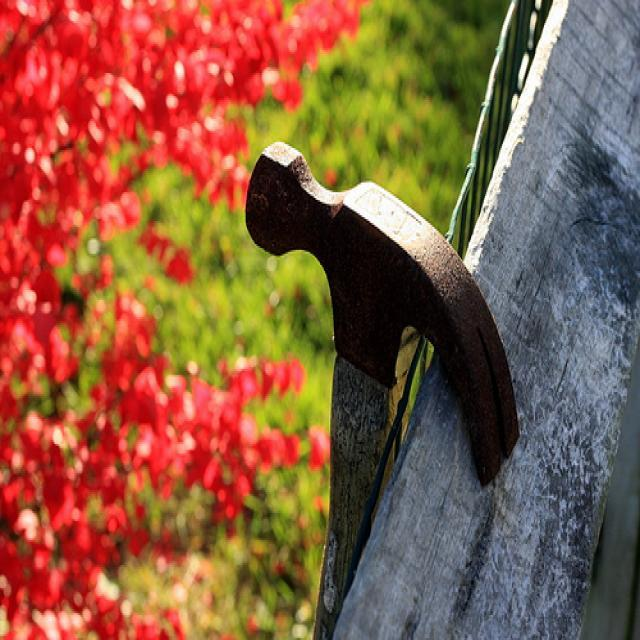hammer: (227, 111, 523, 640)
